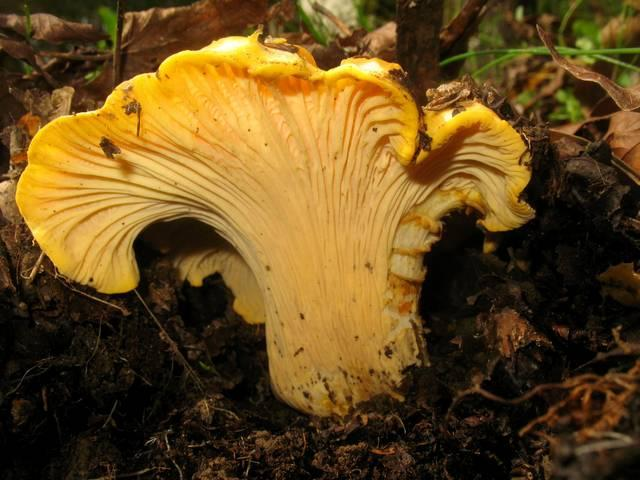edible_mushroom: (14, 28, 536, 420)
